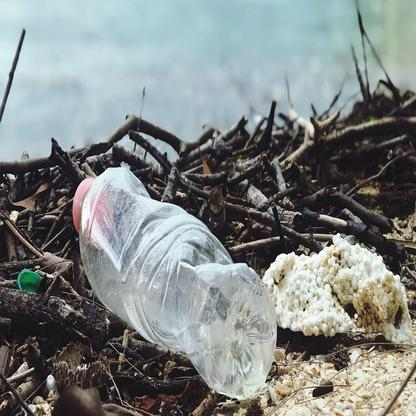plastic bottle: (71, 166, 274, 399)
